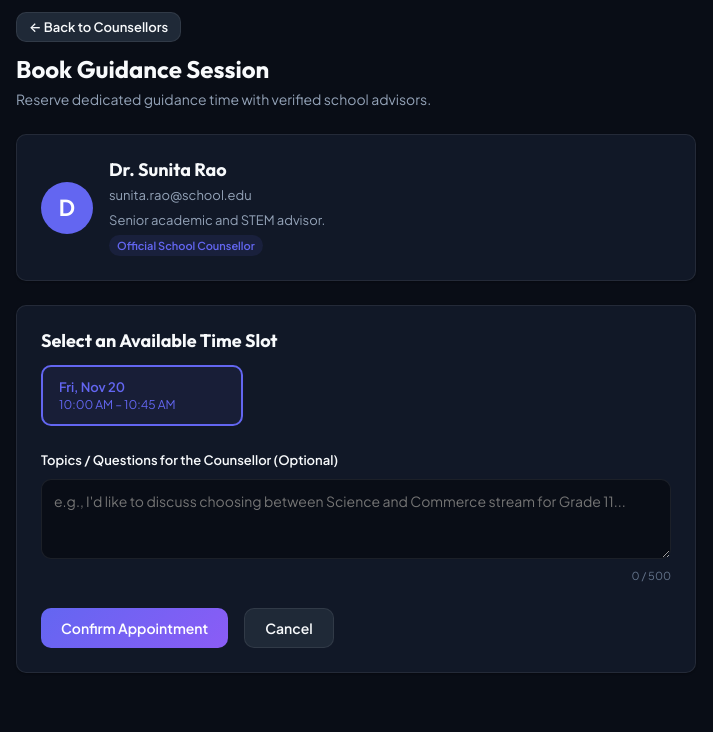
Test case: Student Counsellor Discovery and Booking Flow › handles 409 conflict when slot is already reserved
This screenshot has width=713, height=732.
What coordinates should you click on to do the following:
click the button "Confirm Appointment"
I would click on:
 (135, 628)
Its box is [41,608,228,648].
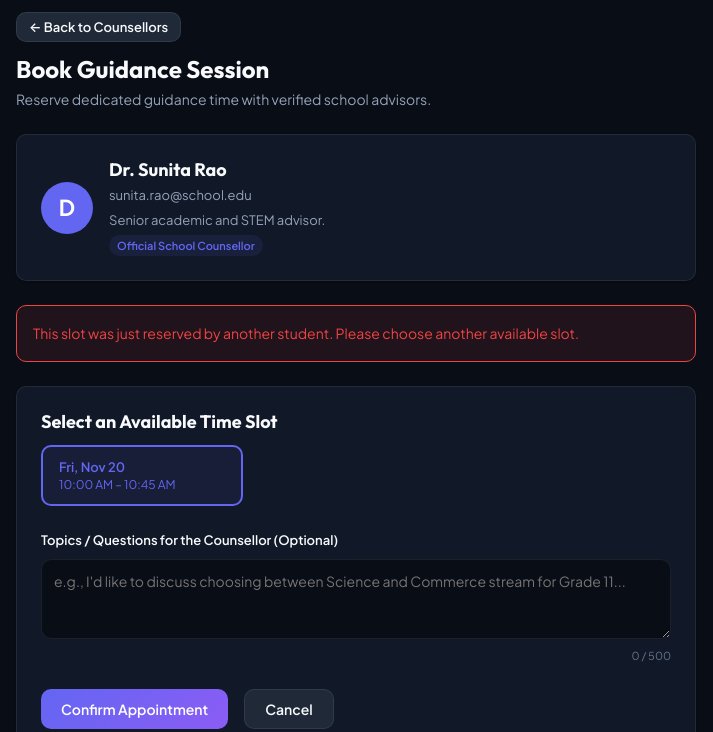
Check: the text "This slot was just reserved by another student" is shown, box [33,324,579,342]
